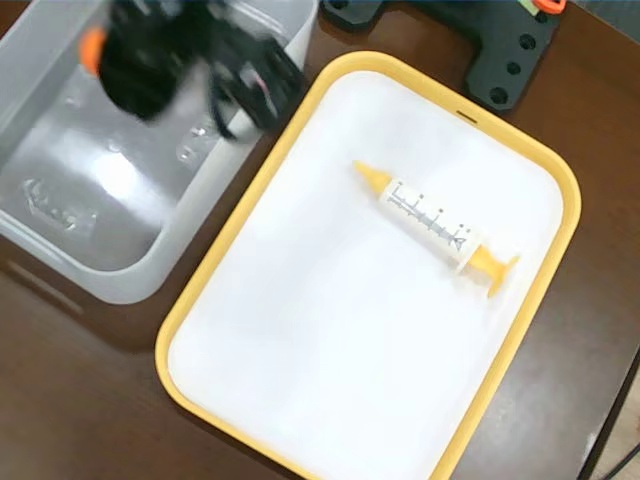syringe: (347, 154, 524, 302)
